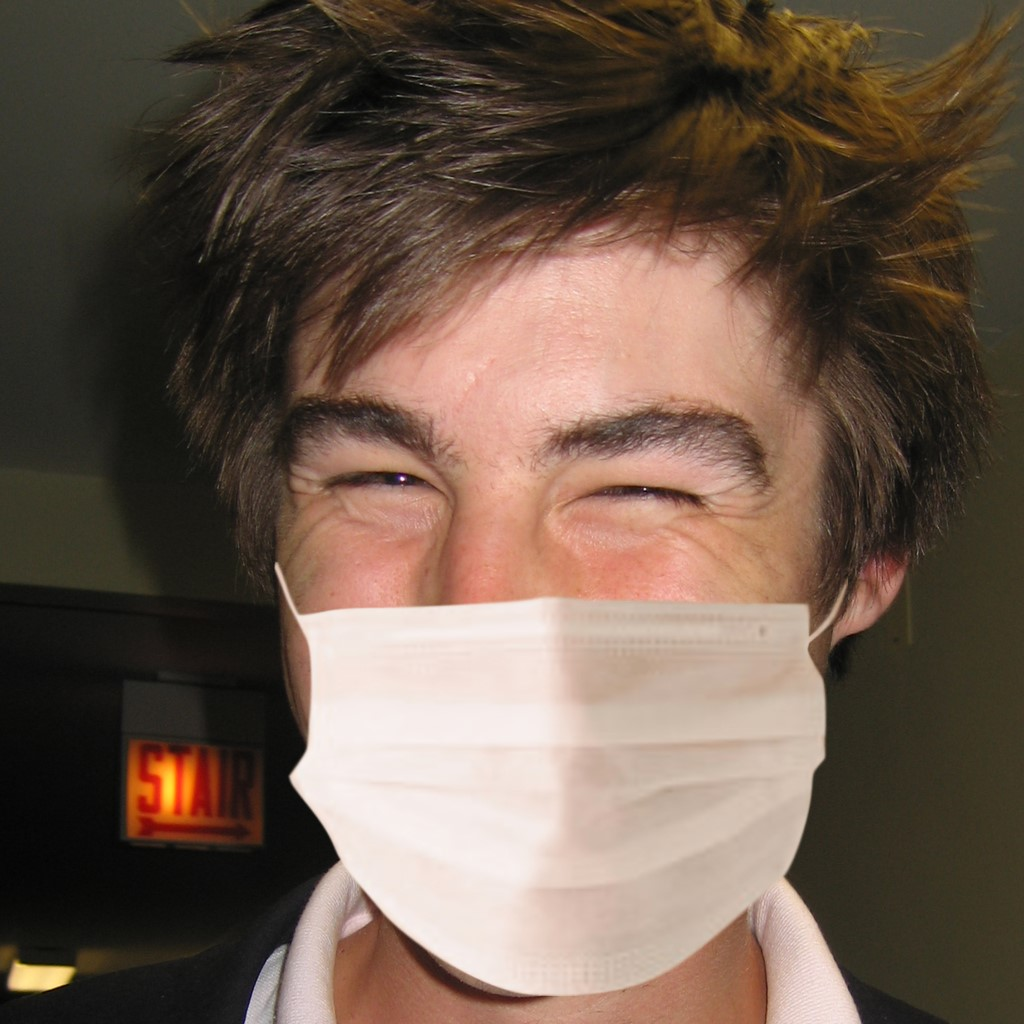con_mascara: (257, 162, 844, 990)
